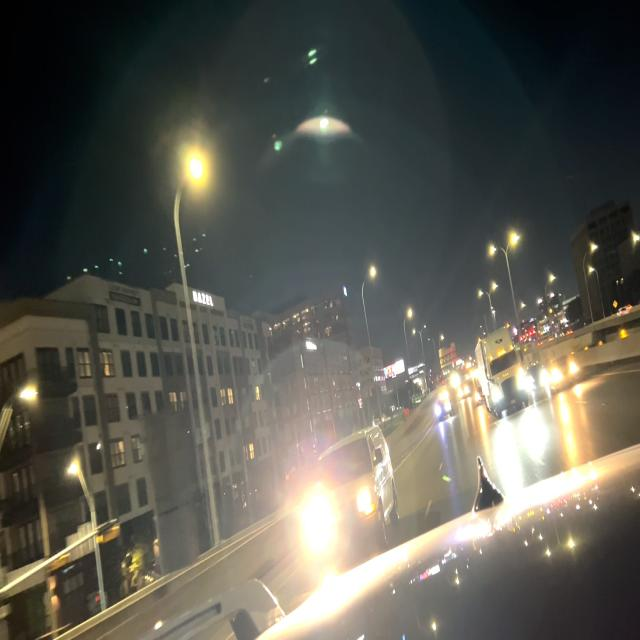back-of-sign: (439, 340, 458, 371)
